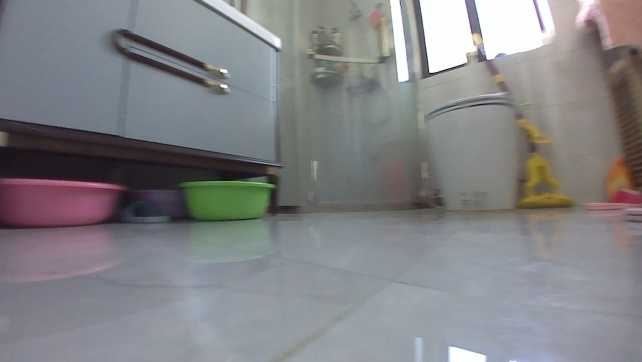toilet: (420, 91, 526, 210)
washstand: (0, 0, 283, 215)
